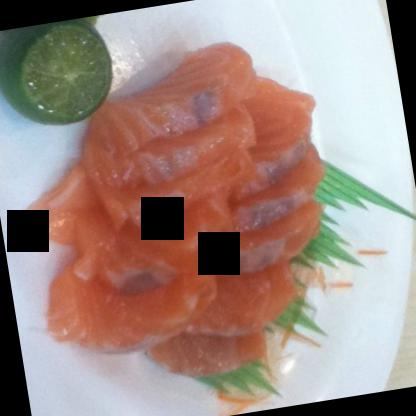salmon: (6, 34, 346, 406)
